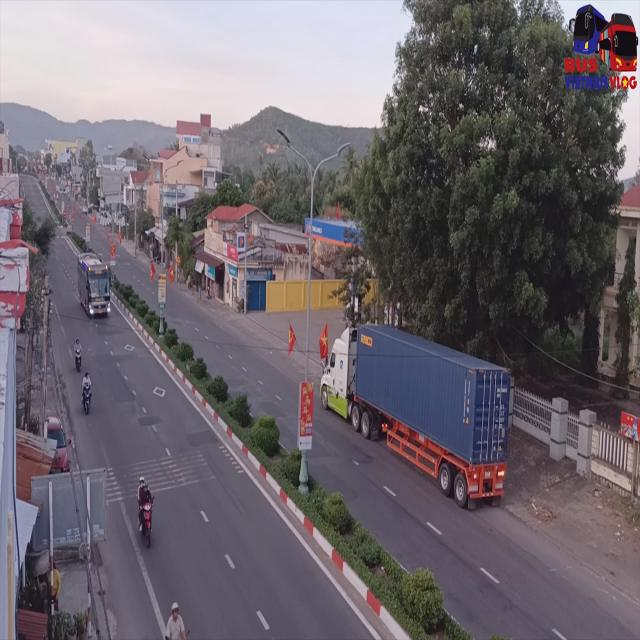bus: (78, 254, 109, 318)
motorbike: (136, 480, 154, 550), (161, 602, 191, 640), (80, 370, 93, 417)
truck: (319, 321, 512, 515)
